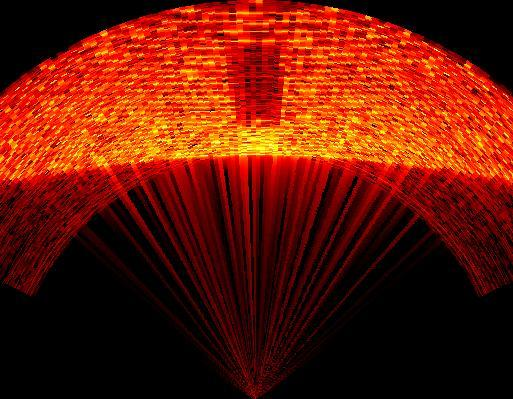box_crate: (224, 44, 288, 128)
